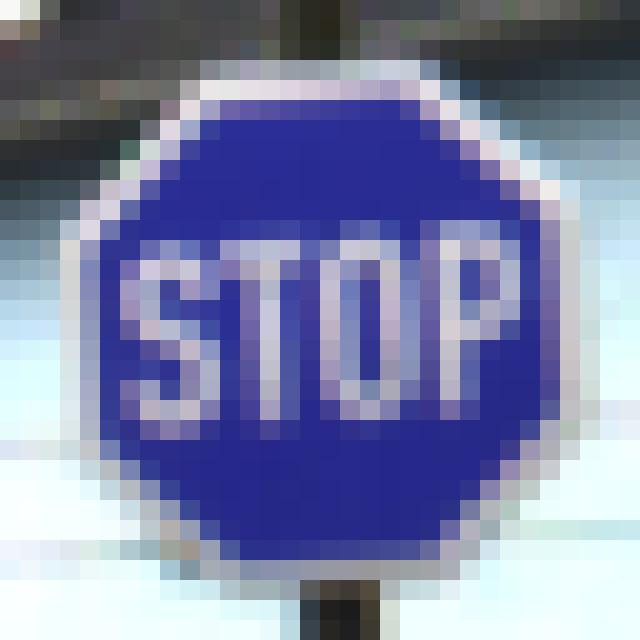STOP: (84, 88, 565, 569)
